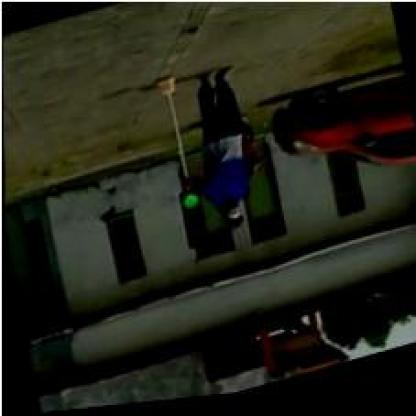green: (177, 190, 208, 254)
